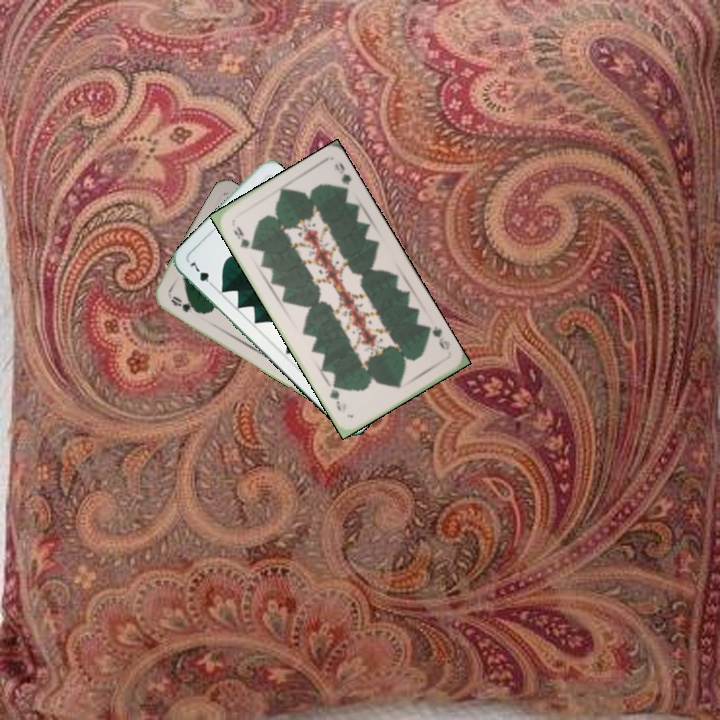G7: (185, 256, 217, 290)
G9: (422, 322, 453, 353), (230, 222, 256, 252)
GO: (166, 292, 203, 316)
